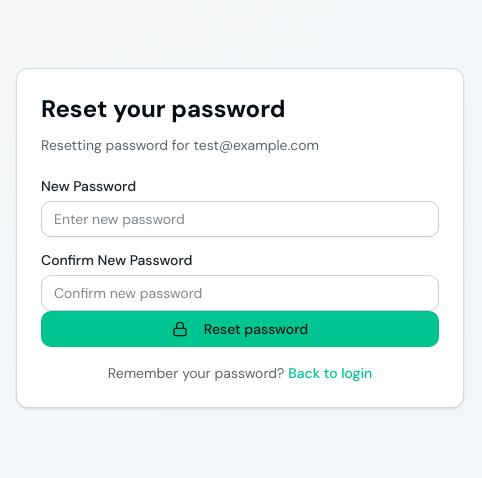
Test: ResetPassword Page › Password Validation › shows error when password is less than 8 characters
In the password field with placeholder "Enter new password": point(240, 219) [41, 201, 439, 237], type "short"
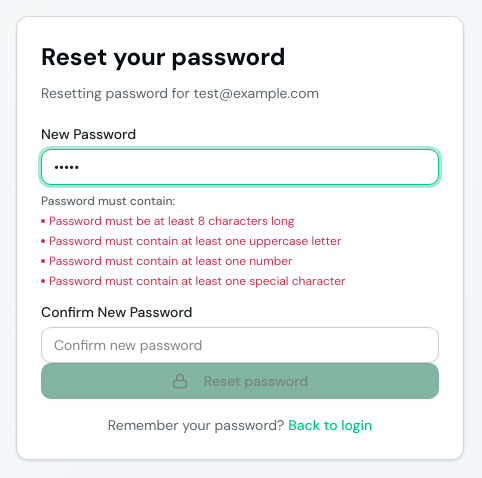
Now the list item "Password must be at least 8 characters long" is shown, box [41, 213, 294, 229]
